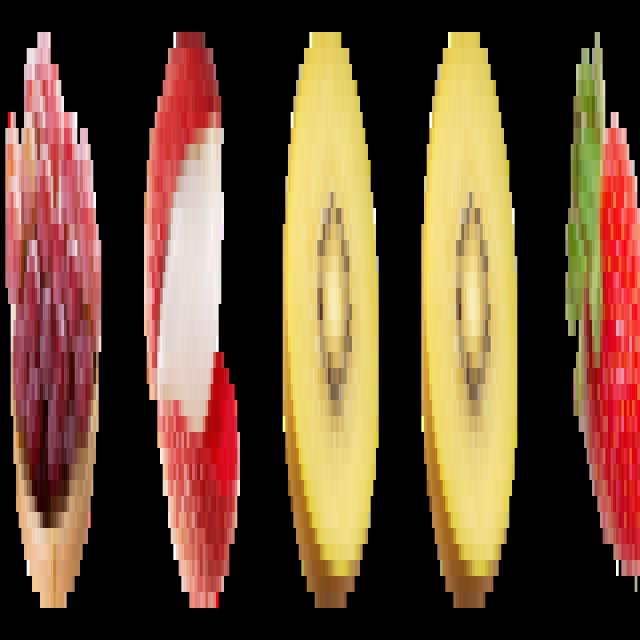grape: (3, 16, 104, 620)
kiwifruit: (418, 13, 520, 620), (280, 9, 381, 620)
lychee: (142, 23, 240, 619)
